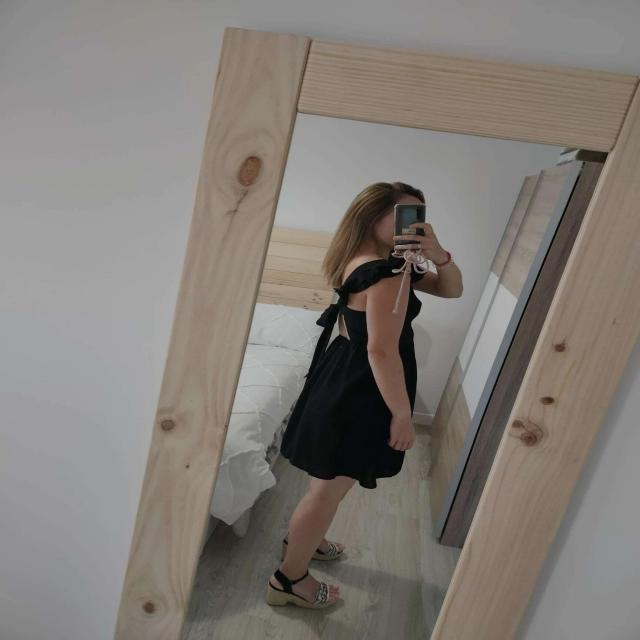clothes: (273, 245, 452, 522)
